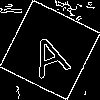A: (25, 25, 72, 79)
